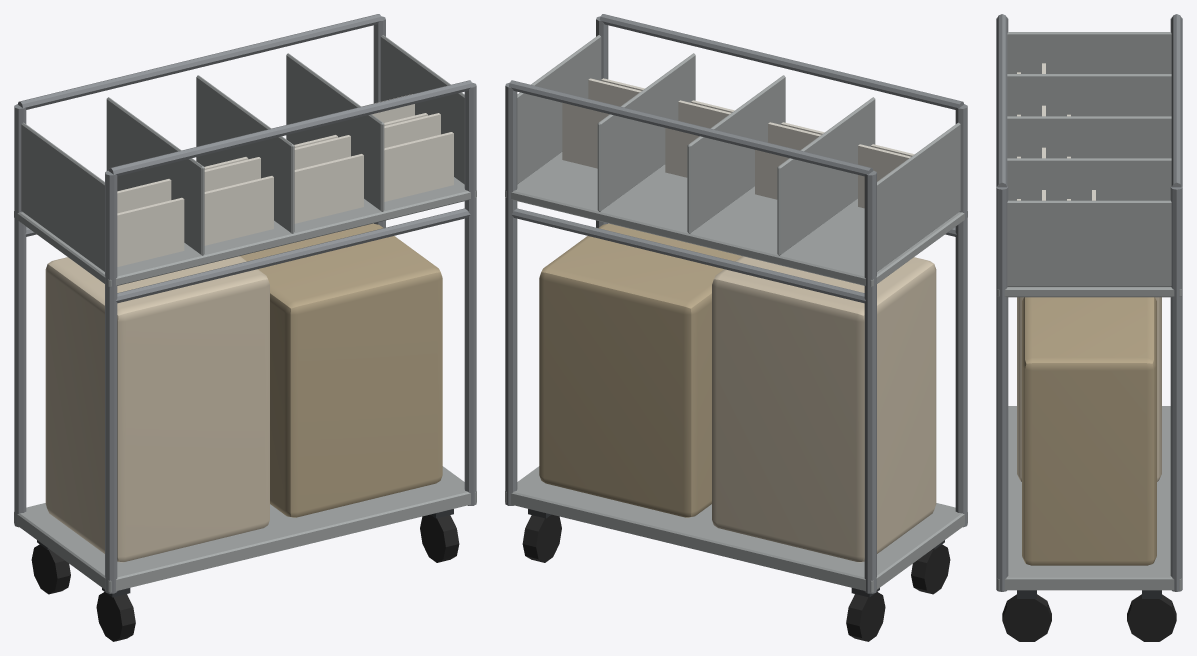
File: prop_mail_trolley.glb
3 views of the same model, side by side, from view 1: azimuth 30°, elevation 25°; view 2: azimuth 150°, elevation 25°; view 3: azimuth 270°, elevation 25° (orthographic). The views are drawn at different scales.
Parts seen in each view (by area): view 1: MailTrolley; view 2: MailTrolley; view 3: MailTrolley.
Part boxes in pixels (x1,y1,x2,y2): MailTrolley: (14, 14, 476, 641); MailTrolley: (505, 14, 967, 641); MailTrolley: (996, 14, 1182, 641).
Size of what is drawn, in the model's own units: 0.824 by 1.03 by 0.374.
